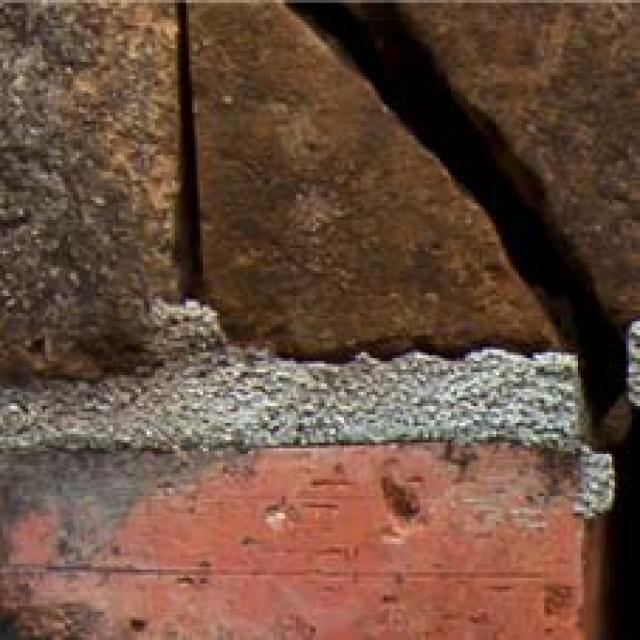Crack: (236, 0, 640, 640)
